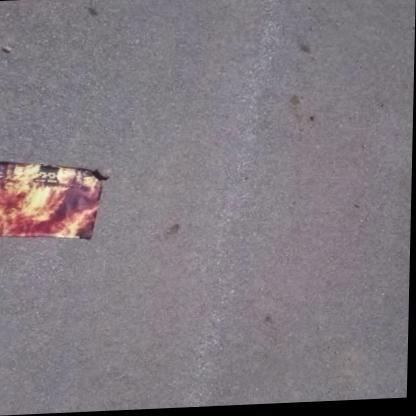fire-poster: (0, 156, 110, 244)
